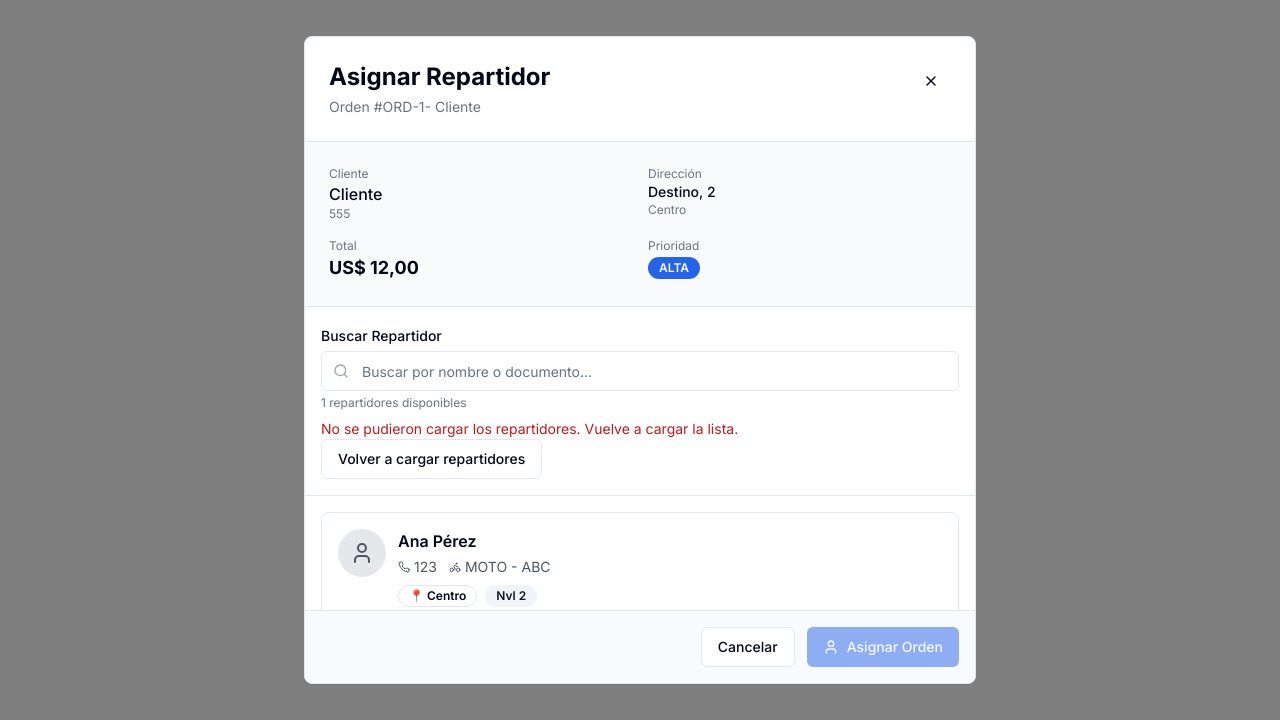
Test case: contains a failed rider read, blocks stale confirmation and permits reloading
Expected: the message "No se pudieron cargar los repartidores. Vuelve a cargar la lista." is shown, [321, 420, 738, 437]
Click the button with aria-label "Seleccionar a Ana Pérez".
click(362, 553)  # box [321, 512, 959, 624]
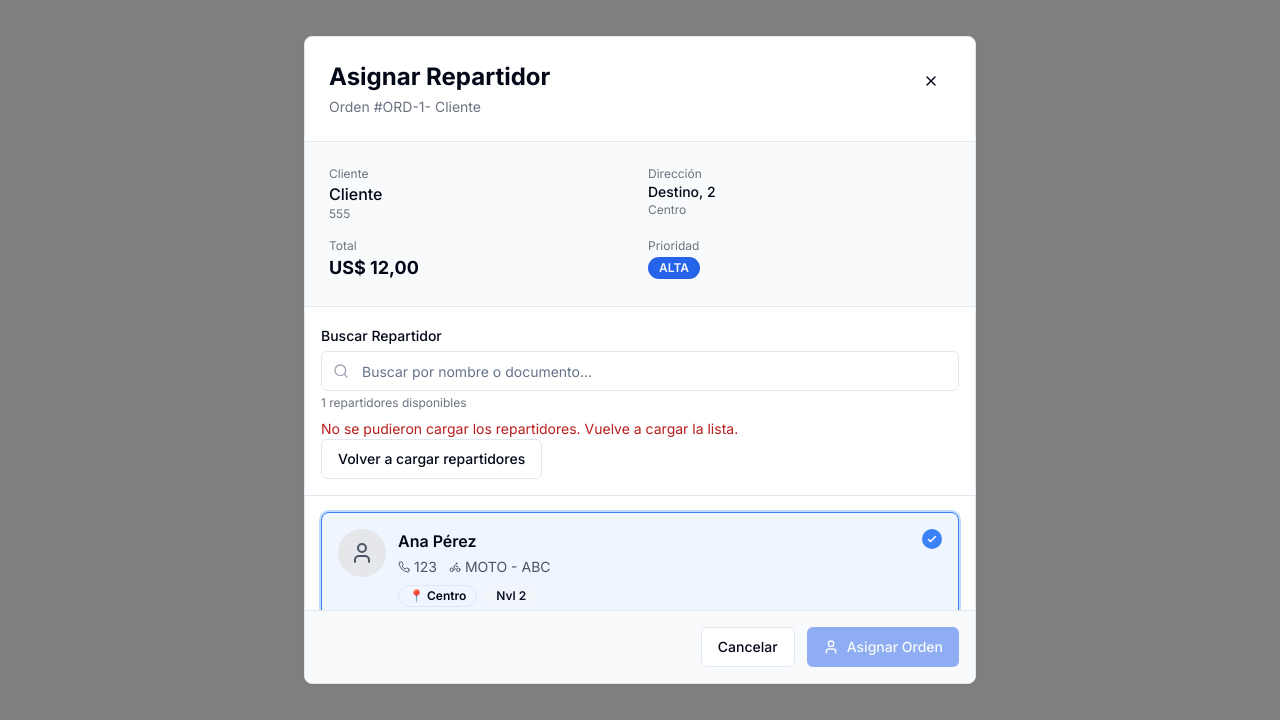
Expected: the button "Asignar Orden" is disabled, [807, 627, 959, 667]
Click the button "Volver a cargar repartidores".
click(432, 459)  # box [321, 439, 542, 479]
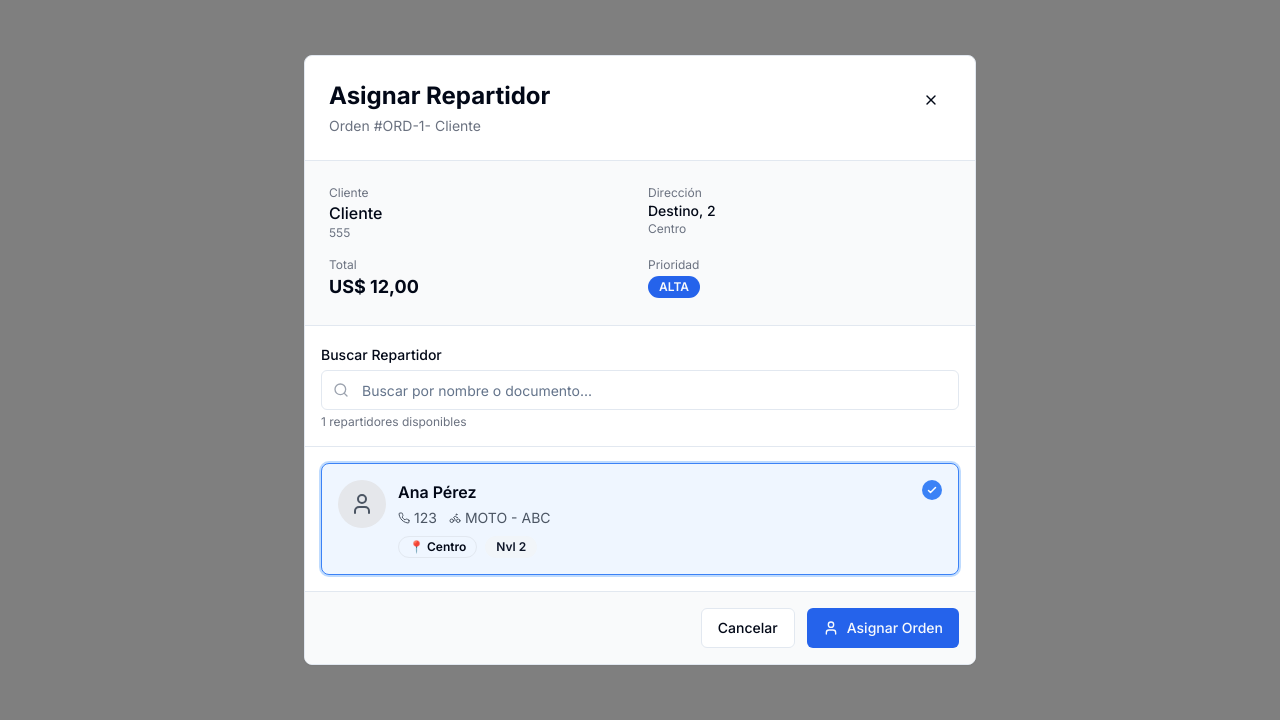
Result: the message "No se pudieron cargar los repartidores. Vuelve a cargar la lista." is gone
Result: the button "Asignar Orden" is enabled at [807, 608, 959, 648]
